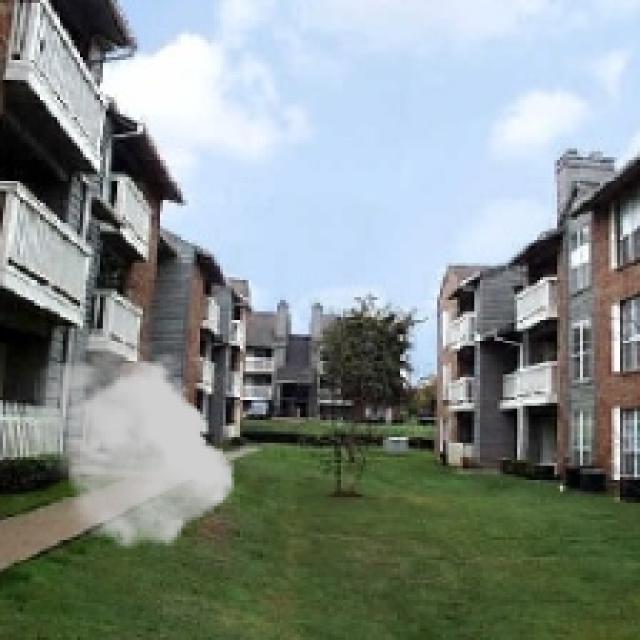smoke: (34, 328, 234, 548)
